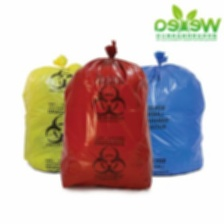plastic_bag: (56, 30, 158, 197), (16, 49, 95, 178), (140, 47, 207, 182)
